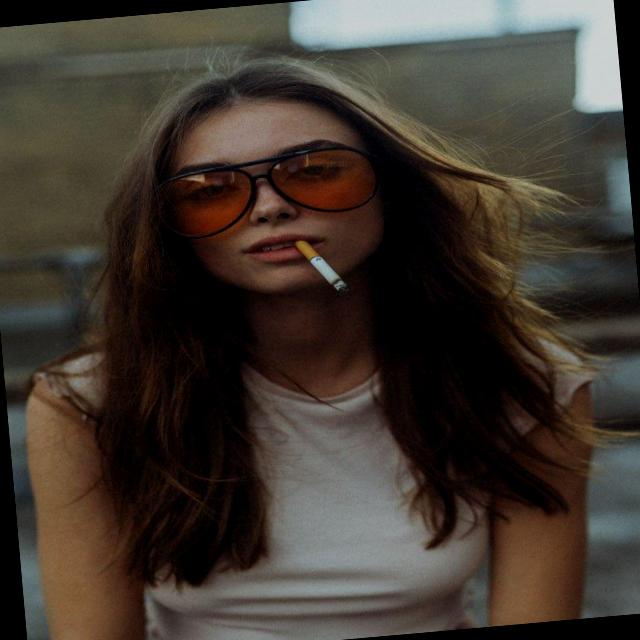smoke: (279, 216, 371, 306)
